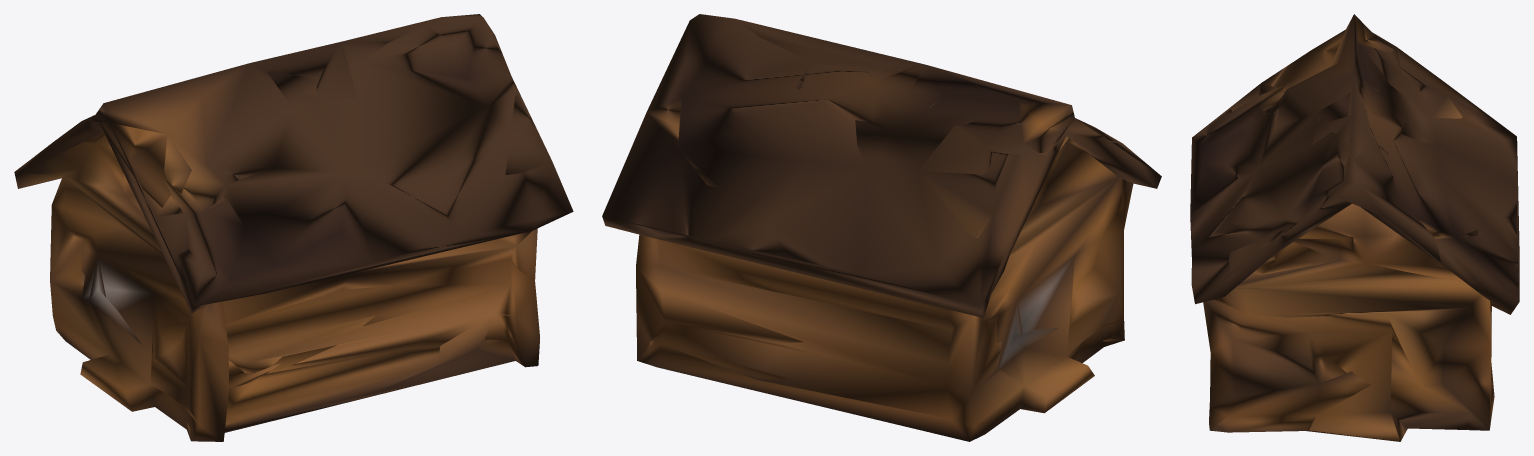
The model's file is gen3d-log-cabin-lod1.glb.
3 renders of one model, left to right at view 1: azimuth 30°, elevation 25°; view 2: azimuth 150°, elevation 25°; view 3: azimuth 270°, elevation 25°, orthographic. The views are drawn at different scales.
Visible parts, largest first — view 1: part_0; view 2: part_0; view 3: part_0.
Boxes of the visible parts, x1,y1,x2,y2 form: part_0: (14,14,573,441); part_0: (602,14,1161,441); part_0: (1190,14,1519,441).
Bounding box in the file's own units: 1.35 × 0.9958 × 1.12.
